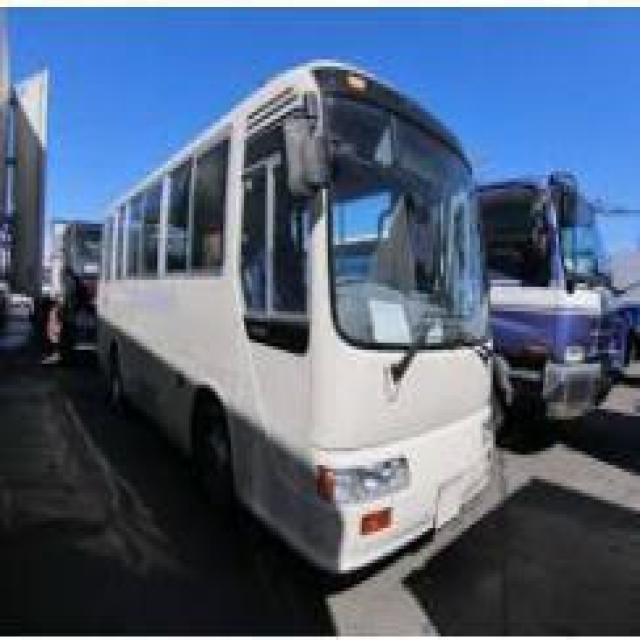Bus: (94, 56, 498, 601)
